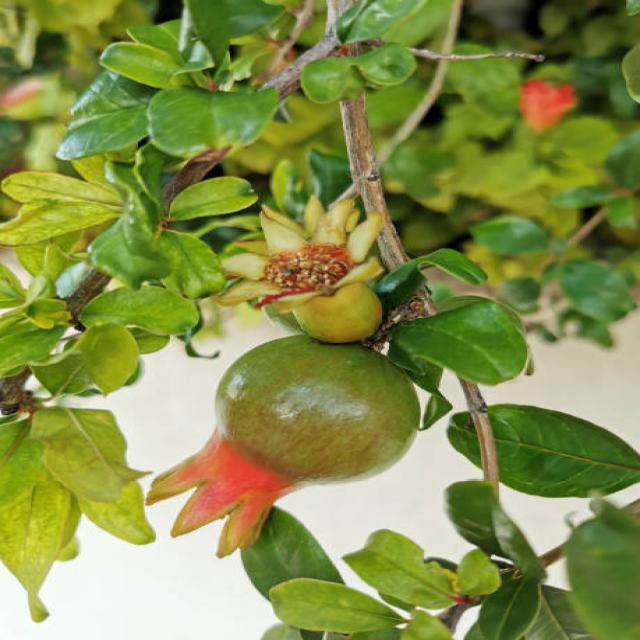Unripe: (140, 337, 422, 558)
